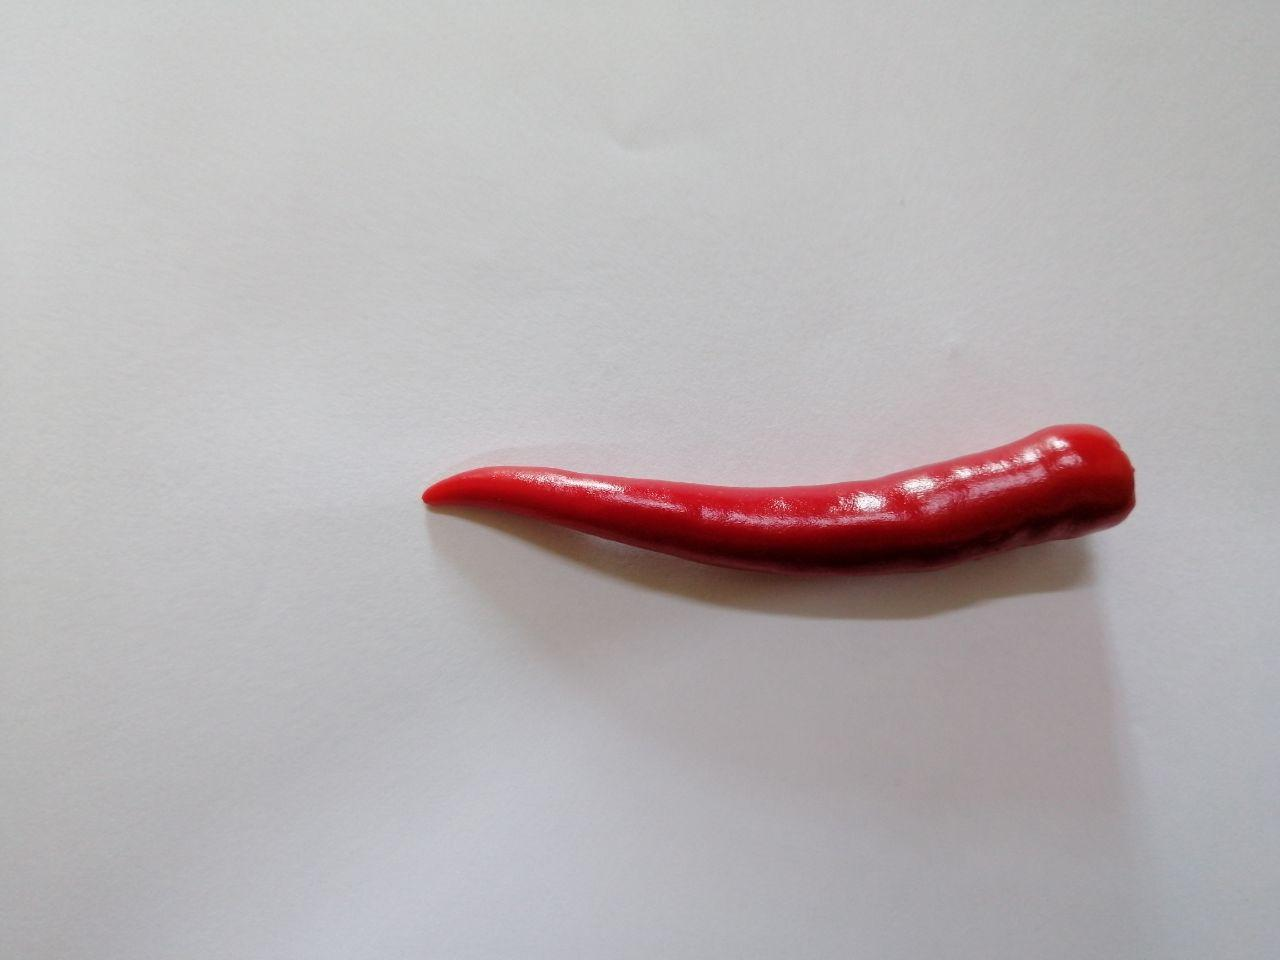lada merah: (396, 396, 1163, 600)
